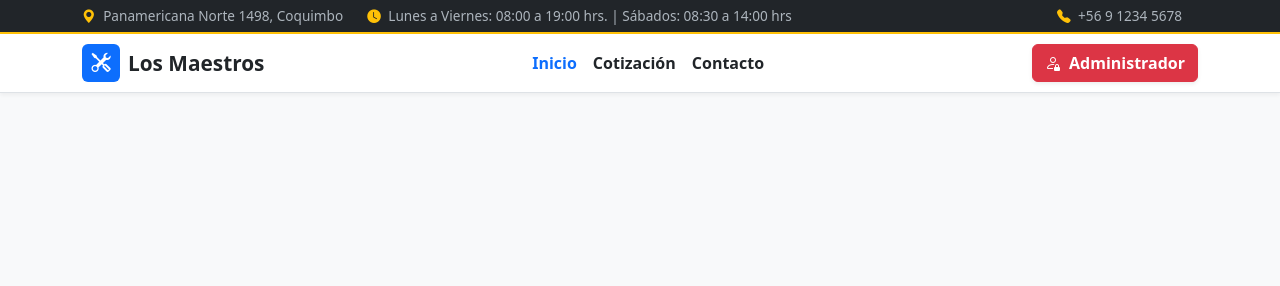
it: Header › se cierra al hacer clic fuera del menú
This screenshot has width=1280, height=286.
Click the button "Administrador".
click(1115, 63)  # box [1032,44,1198,82]
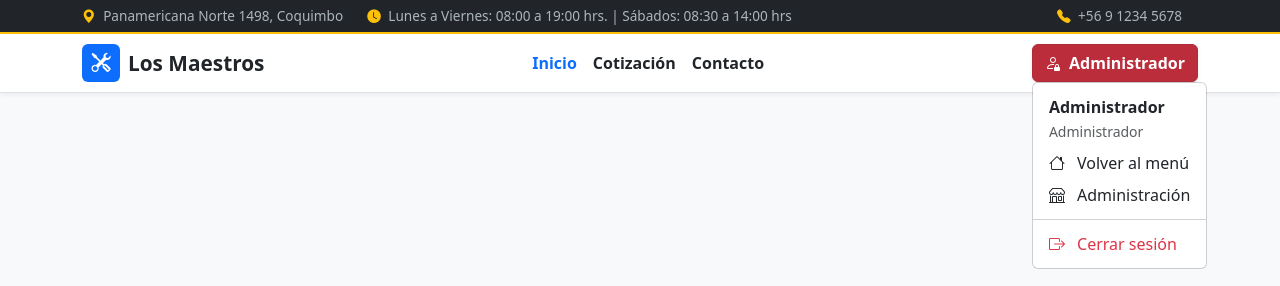
Click the element that starts with "Panamericana Norte 1498, Coquimbo".
click(640, 47)  # box [0,0,1279,93]
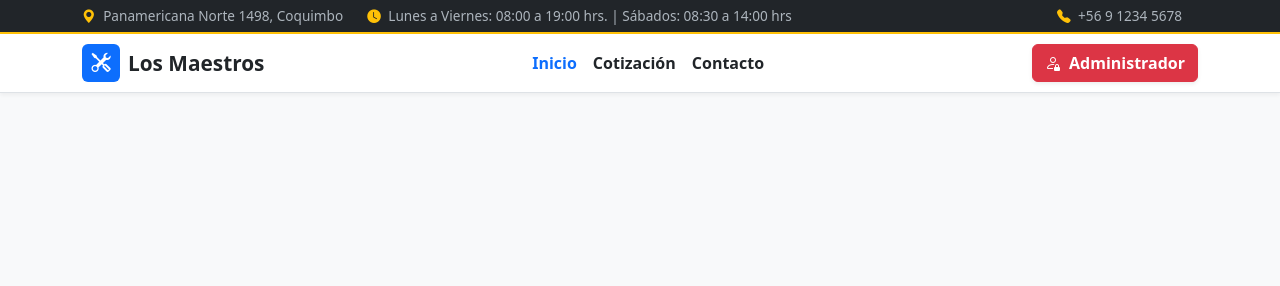
Check: the button "Administrador" is collapsed, box [1032,44,1198,82]
